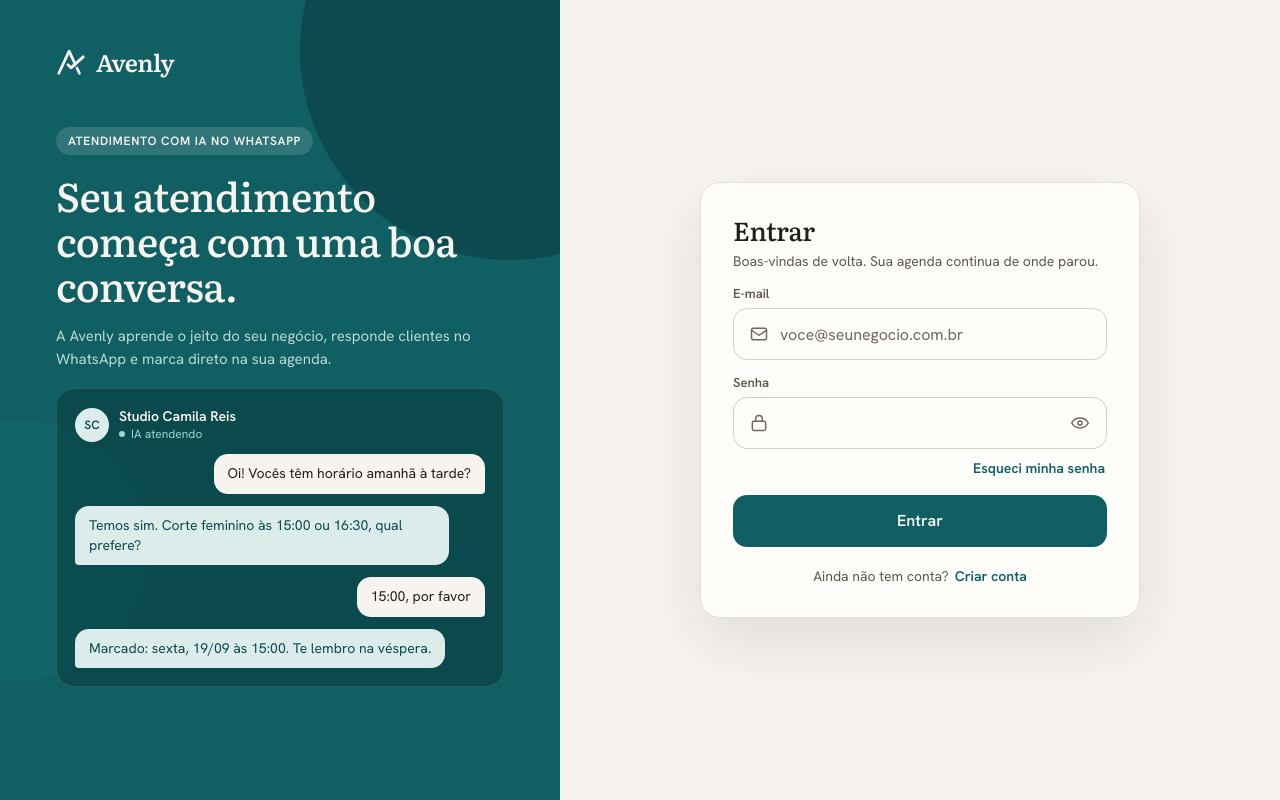
Test: login e cadastro — integração real com erro junto ao campo › credenciais inválidas aparecem junto ao campo de senha, e-mail preservado
In the field labelled "E-mail": (920, 334) [733, 308, 1107, 360], type "dona@studio.com"
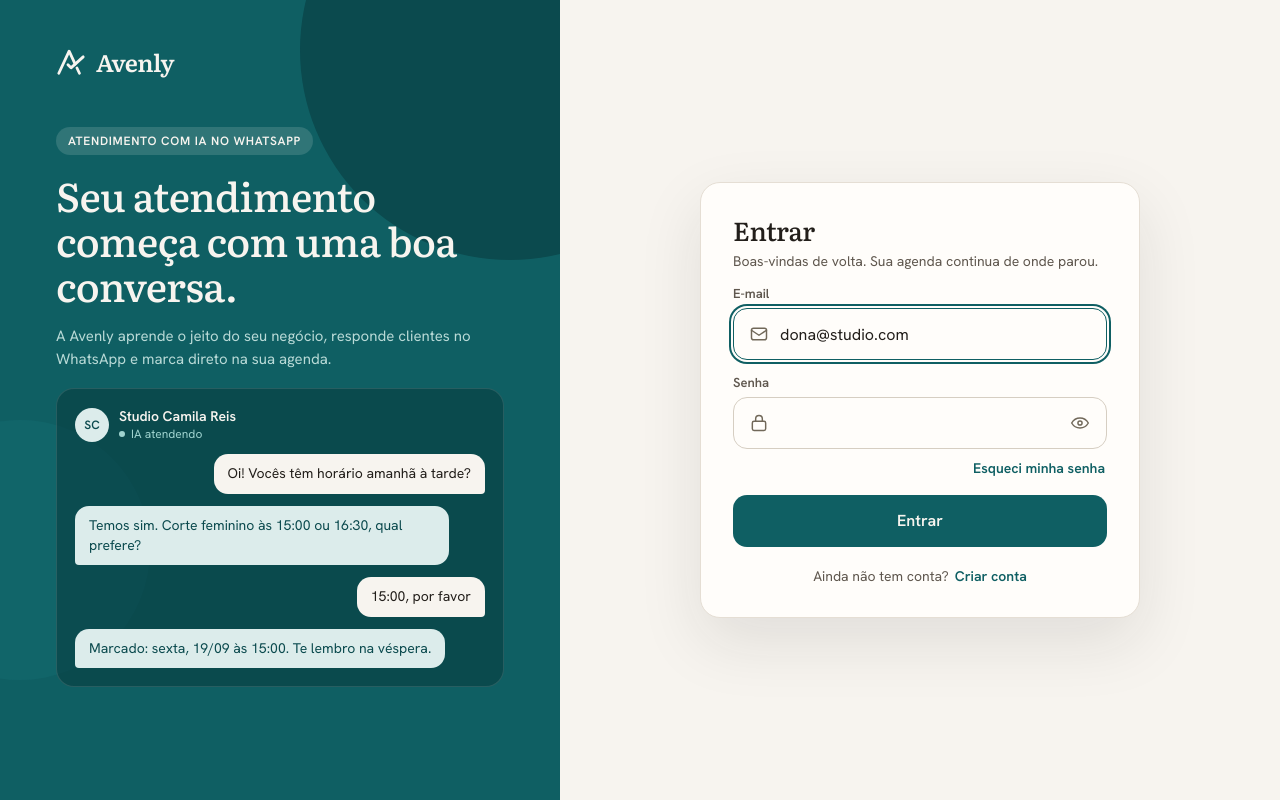
In the password field labelled "Senha": (920, 423) [733, 397, 1107, 449], type "senha-digitada"
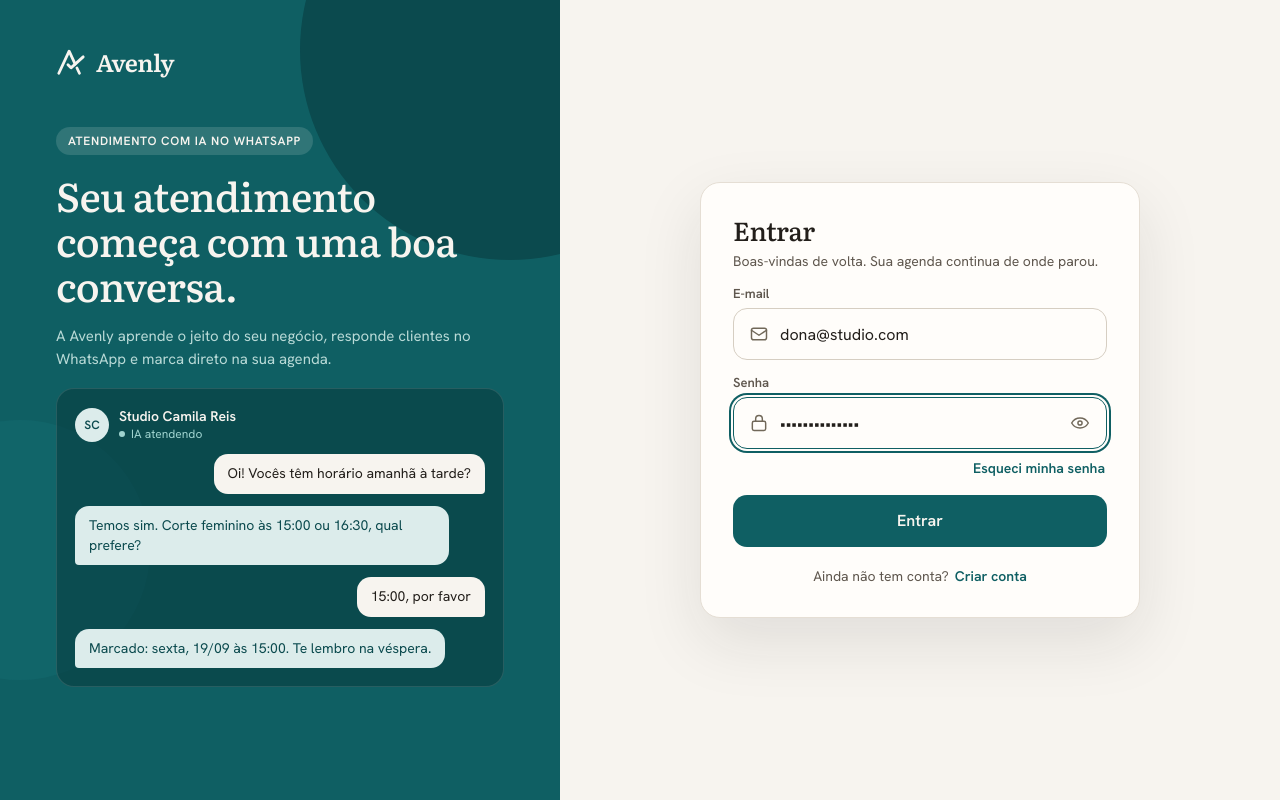
Click the button "Entrar": (920, 521) [733, 495, 1107, 547]
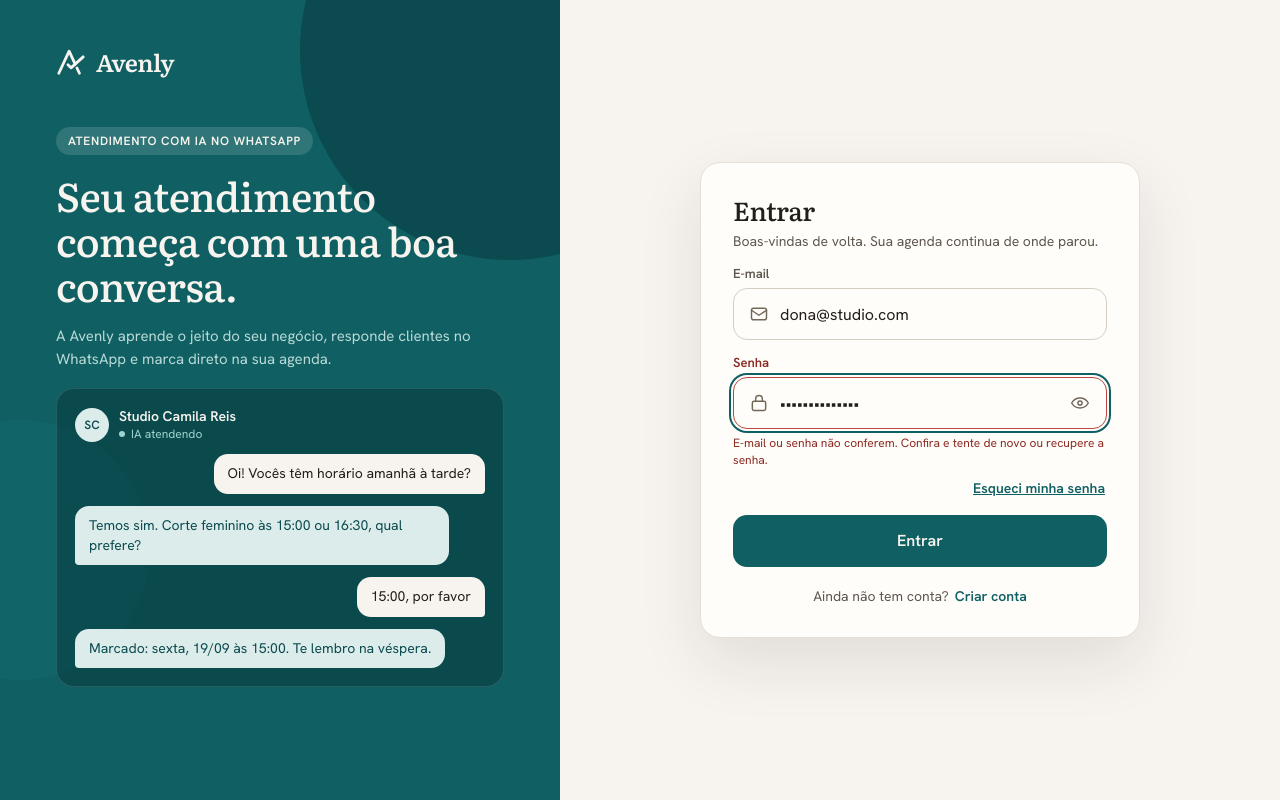
Check: the text "E-mail ou senha não conferem. Confira e tente de novo ou recupere a senha." is shown, box [733, 435, 1107, 469]
